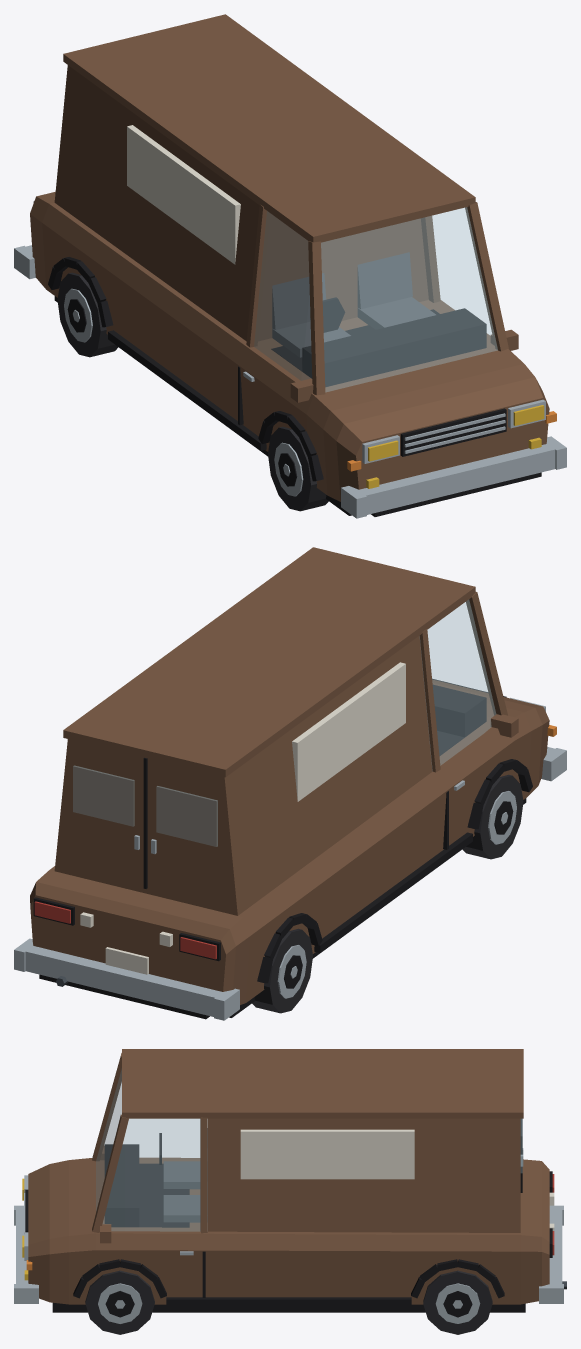
Rendered from GV_Van_Brown_01.glb.
The picture shows the model from 3 angles, top to bottom: view 1: azimuth 30°, elevation 25°; view 2: azimuth 150°, elevation 25°; view 3: azimuth 270°, elevation 25°; orthographic projection. The views are drawn at different scales.
Parts seen in each view (by area): view 1: GV_Van_Brown_01; view 2: GV_Van_Brown_01; view 3: GV_Van_Brown_01.
Part boxes in pixels (bbox=[...]): GV_Van_Brown_01: bbox=[14, 14, 566, 518]; GV_Van_Brown_01: bbox=[14, 547, 566, 1020]; GV_Van_Brown_01: bbox=[14, 1049, 566, 1334].
Size of the model in its own units: 2.12 by 2.43 by 5.73.
Materials: 2 (2 with a texture image).
